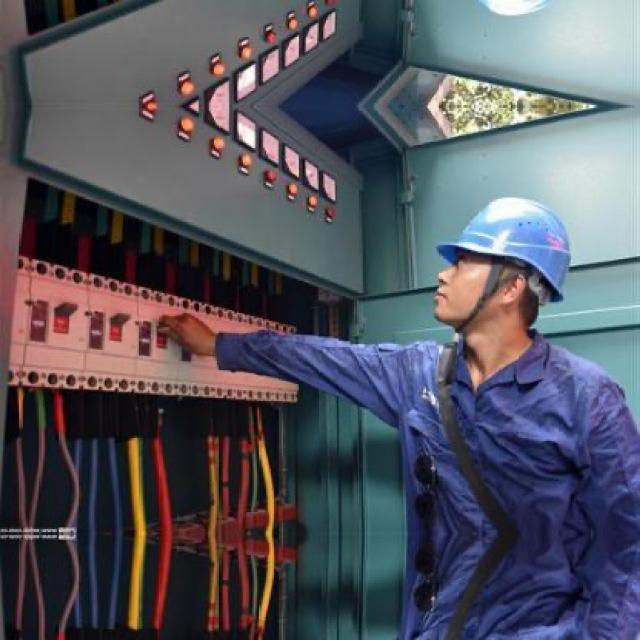helmet: (429, 178, 591, 360), (430, 0, 592, 37)
